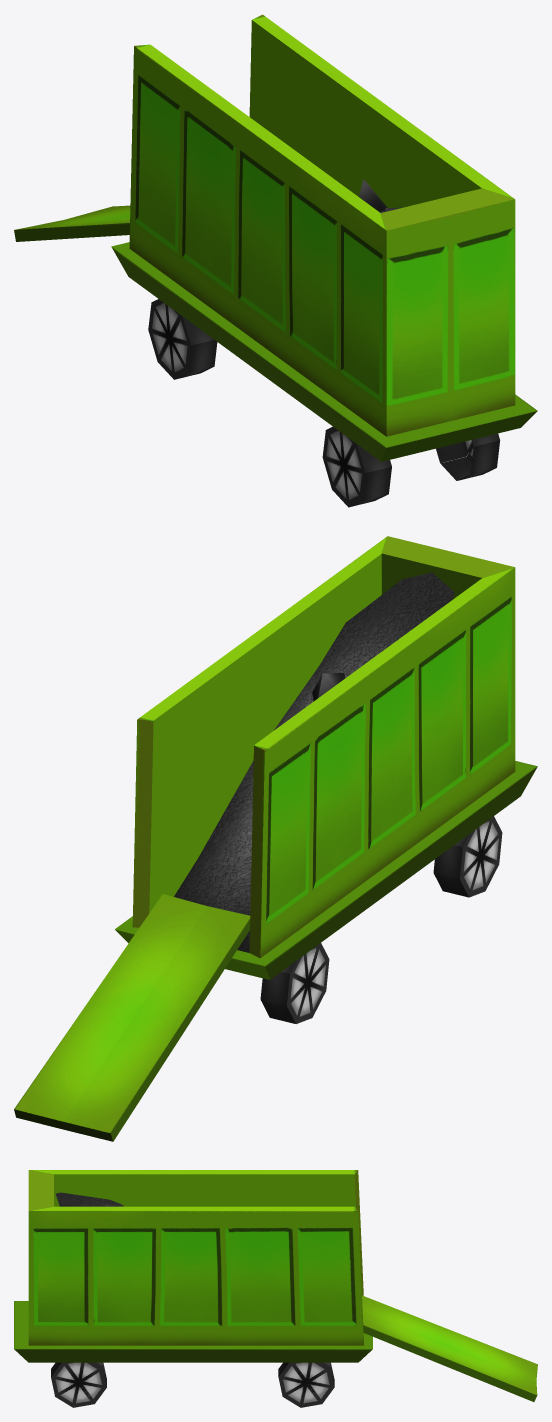
Rendered from Taucat.fbx.
3 renders of one model, top to bottom at view 1: azimuth 30°, elevation 25°; view 2: azimuth 150°, elevation 25°; view 3: azimuth 270°, elevation 25°, orthographic. The views are drawn at different scales.
Parts seen in each view (by area): view 1: Taucat; view 2: Taucat; view 3: Taucat.
Boxes of the visible parts, bbox=[...] form: Taucat: bbox=[14, 14, 537, 507]; Taucat: bbox=[14, 536, 537, 1141]; Taucat: bbox=[14, 1170, 537, 1407].
Size of the model in its own units: 123 by 234 by 566.
